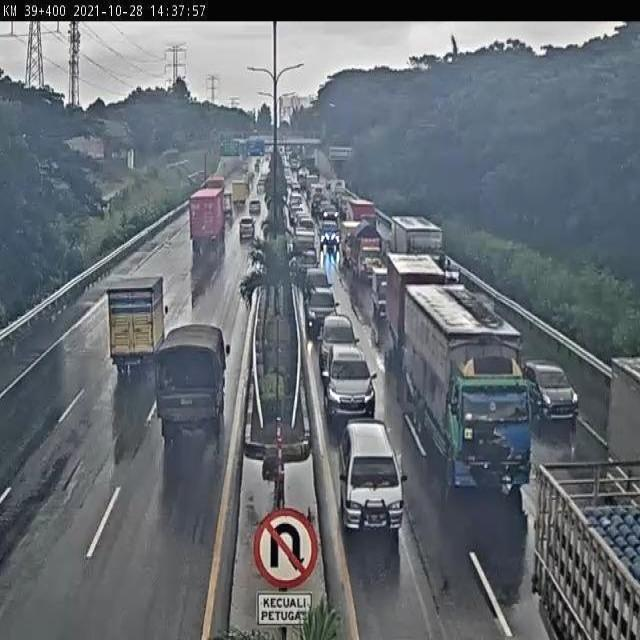Car: (338, 422, 405, 533), (322, 342, 379, 424), (522, 360, 579, 437), (317, 313, 361, 373), (304, 284, 342, 335), (302, 267, 332, 297), (318, 218, 342, 251), (298, 248, 320, 278), (238, 216, 254, 241), (320, 204, 340, 222), (444, 263, 462, 282), (248, 200, 261, 216), (290, 180, 300, 192)
Truck: (399, 278, 536, 501), (527, 450, 640, 640), (153, 322, 234, 447), (384, 253, 454, 370), (104, 274, 170, 376), (604, 352, 640, 514), (350, 217, 386, 287), (187, 186, 226, 248), (389, 215, 444, 258), (338, 219, 364, 271), (369, 265, 389, 318), (348, 199, 380, 230), (231, 179, 248, 206), (222, 193, 232, 223), (204, 173, 225, 187)
